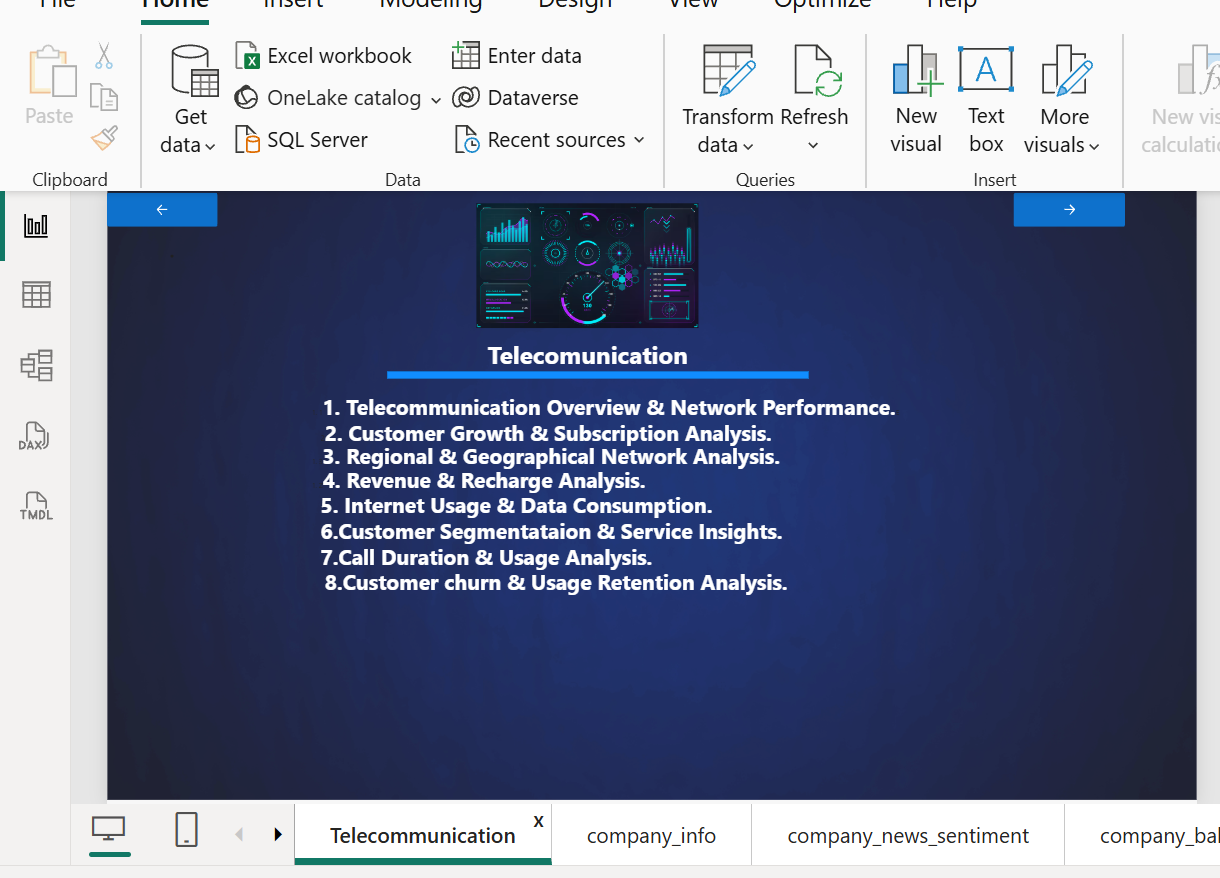

The page's visual inventory and layout, read from the dashboard file:
{"tool":"powerbi","page":{"name":" Telecommunication","canvas":[1920,1080],"ordinal":0},"visuals":[{"type":"textbox","box":[620,260,455,63.3],"z":0},{"type":"shape","box":[493.3,316.7,743.3,13.3],"z":1000},{"type":"image","box":[638.3,21.7,416.7,220],"z":2000},{"type":"textbox","box":[361.7,353.3,1196.7,61.7],"z":3000},{"type":"textbox","box":[375,400,1073.3,53.3],"z":4000},{"type":"textbox","box":[361.7,441.7,1196.7,58.3],"z":5000},{"type":"textbox","box":[361.7,485,1061.7,55],"z":6000},{"type":"textbox","box":[375,528.3,1016.7,65],"z":7000},{"type":"textbox","box":[375,620,961.7,53.3],"z":8000},{"type":"textbox","box":[375,575,988.3,56.7],"z":9000},{"type":"textbox","box":[375,661.7,1028.3,60],"z":10000},{"type":"actionButton","box":[0,1.7,195,60],"z":11000},{"type":"actionButton","box":[1598.3,1.7,196.7,60],"z":12000}]}

Visuals, with their boxes on the page's 1920x1080 design canvas (x1, y1, x2, y2). These are canvas units, not pixel positions in the 1220x878 screenshot, which may show the page scaled, cropped or inside an application window:
textbox: (620,260,1075,323)
shape: (493,317,1237,330)
image: (638,22,1055,242)
textbox: (362,353,1558,415)
textbox: (375,400,1448,453)
textbox: (362,442,1558,500)
textbox: (362,485,1423,540)
textbox: (375,528,1392,593)
textbox: (375,620,1337,673)
textbox: (375,575,1363,632)
textbox: (375,662,1403,722)
actionButton: (0,2,195,62)
actionButton: (1598,2,1795,62)
